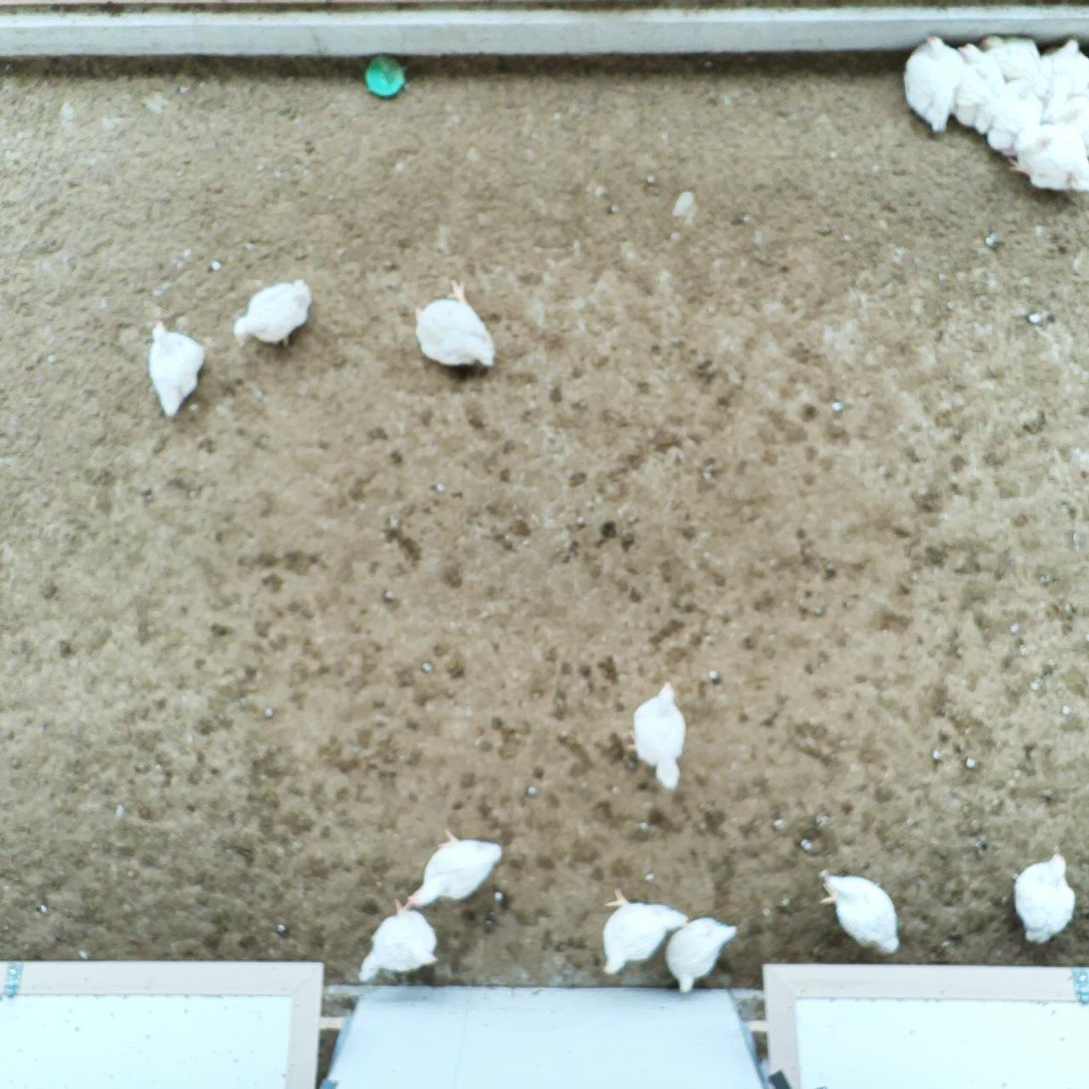chicken: (593, 889, 691, 976), (411, 277, 502, 369), (408, 825, 507, 908), (357, 894, 444, 984), (621, 681, 688, 791), (820, 872, 900, 956), (902, 33, 968, 134), (945, 38, 1010, 139), (666, 909, 739, 998), (226, 272, 315, 345), (144, 320, 207, 422), (1012, 851, 1078, 948), (1008, 119, 1089, 188), (983, 77, 1044, 159), (977, 31, 1048, 81), (1035, 77, 1089, 134), (1041, 35, 1089, 91)
